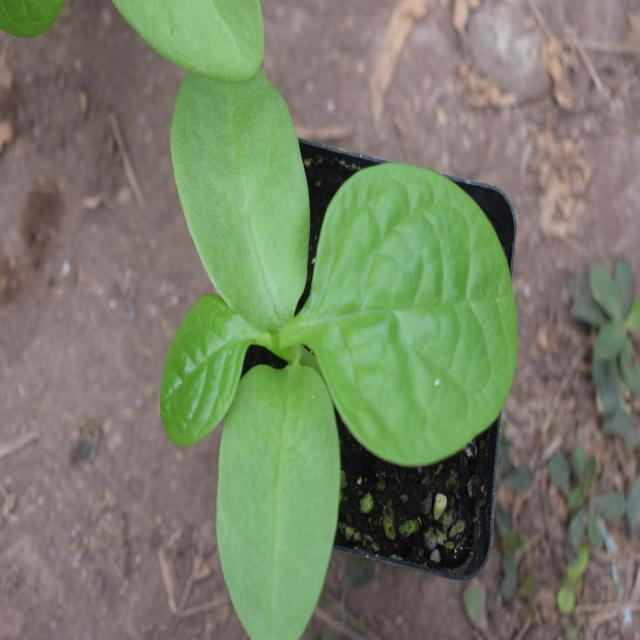Ceylon spinach: (144, 66, 518, 616)
